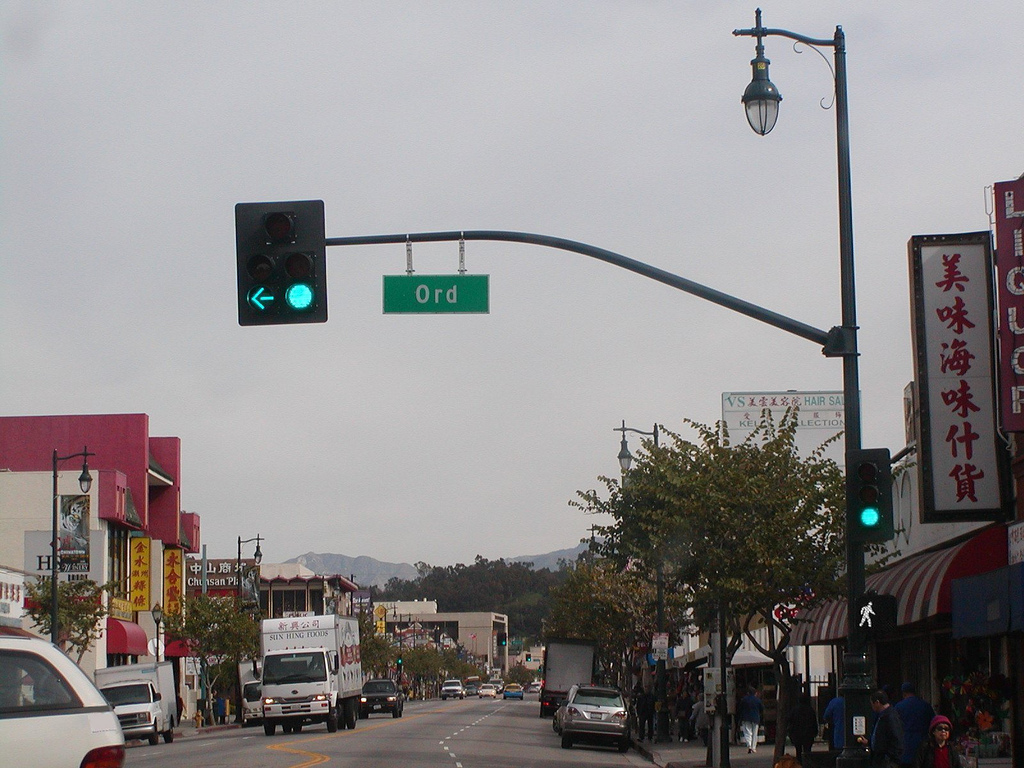traffic_light: (231, 198, 331, 328)
